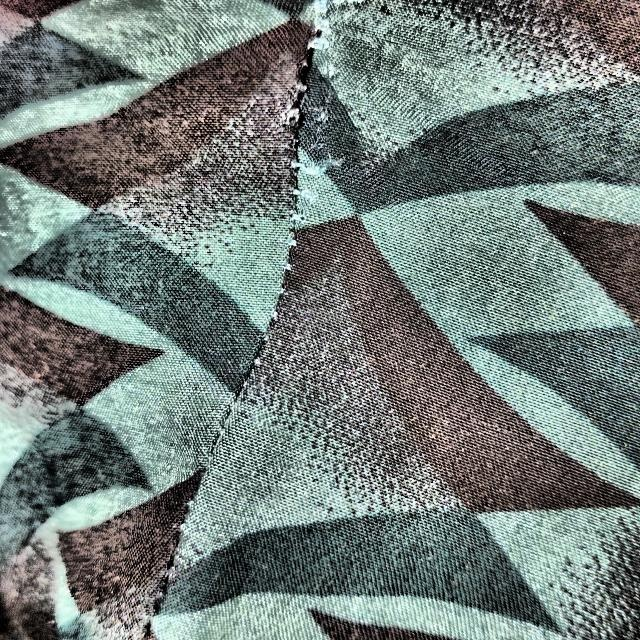Stitch: (224, 0, 398, 291)
